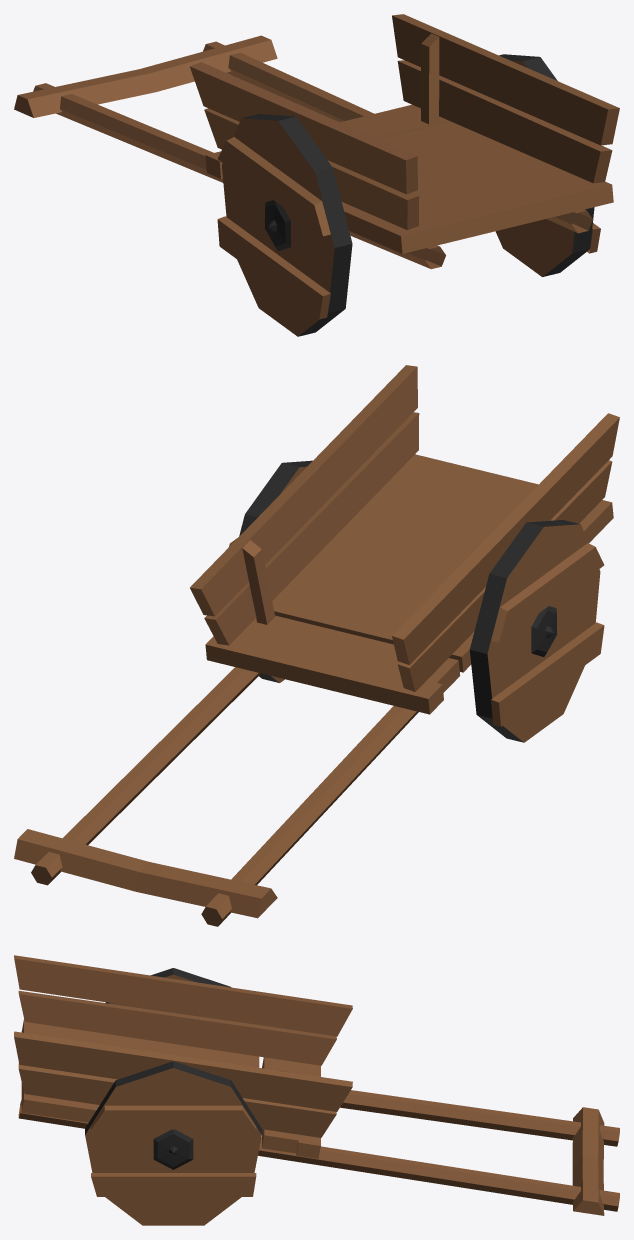
The model's file is carriage.glb.
3 views of the same model, one above another, from view 1: azimuth 30°, elevation 25°; view 2: azimuth 150°, elevation 25°; view 3: azimuth 270°, elevation 25° (orthographic). The views are drawn at different scales.
Parts seen in each view (by area): view 1: carriage-base, carriage-wheels; view 2: carriage-base, carriage-wheels; view 3: carriage-base, carriage-wheels.
Part boxes in pixels (x1,y1,x2,y2): carriage-base: [14, 14, 619, 269]; carriage-wheels: [217, 54, 600, 336]; carriage-base: [14, 365, 619, 926]; carriage-wheels: [229, 460, 604, 742]; carriage-base: [14, 955, 619, 1215]; carriage-wheels: [85, 968, 261, 1225].
Bounding box in the file's own units: 1.46 × 1.15 × 3.47.
Materials: 1 (1 with a texture image).
